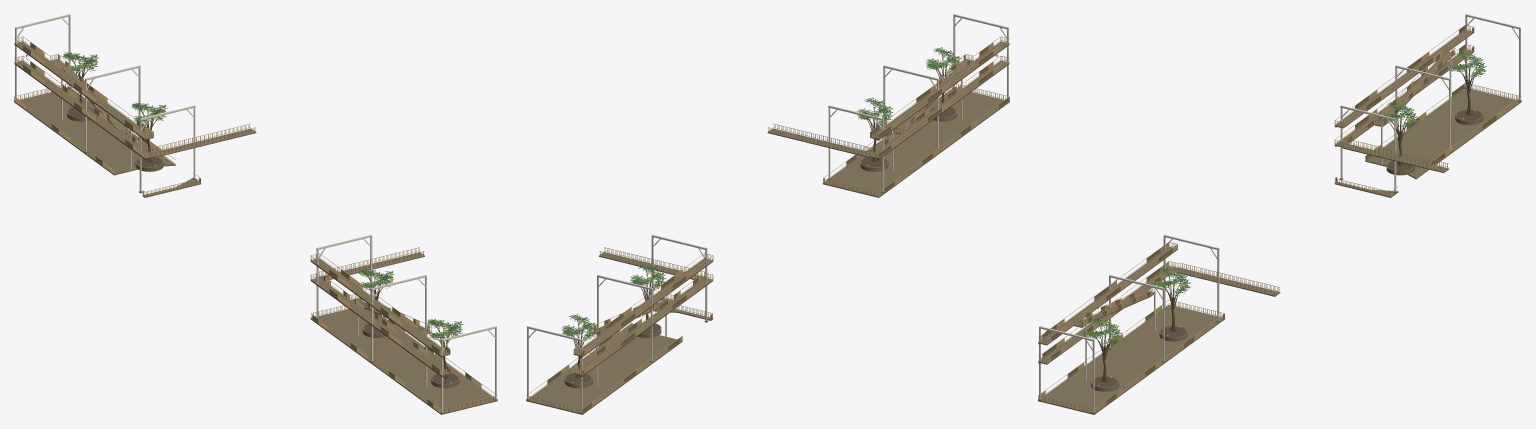
File: NightGardenReceivingCourts_r003.glb
The picture shows the model from 3 angles, left to right: view 1: azimuth 30°, elevation 25°; view 2: azimuth 150°, elevation 25°; view 3: azimuth 330°, elevation 25°; orthographic projection.
Visible parts, largest first — view 1: Base_006, Fore_GuardBalusters, Aft_GuardBalusters, Base_007, Base_004, Base_005, Aft_Gallery_97.5, Aft_Gallery_93, Fore_Gallery_93, Fore_Gallery_97.5, Fore_D15_ReceivingBridge, Aft_D15_ReceivingBridge; view 2: Base_006, Aft_GuardBalusters, Fore_GuardBalusters, Base_004, Base_007, Base_005, Fore_Gallery_97.5, Fore_Gallery_93, Aft_Gallery_93, Aft_Gallery_97.5, Aft_D15_ReceivingBridge, Base_003 (+1 smaller); view 3: Base_007, Base_006, Aft_GuardBalusters, Fore_GuardBalusters, Base_004, Base_005, Fore_Gallery_97.5, Aft_Gallery_97.5, Base_003, Aft_Gallery_93, Fore_Gallery_93, Fore_D15_ReceivingBridge (+2 smaller).
Part boxes in pixels (x1,y1,x2,y2): Base_006: (310,308,441,414); Fore_GuardBalusters: (14,37,255,196); Aft_GuardBalusters: (310,248,494,412); Base_007: (373,313,497,414); Base_004: (20,88,138,160); Base_005: (14,101,137,175); Aft_Gallery_97.5: (310,258,450,356); Aft_Gallery_93: (310,277,450,376); Fore_Gallery_93: (14,60,153,159); Fore_Gallery_97.5: (14,41,153,139); Fore_D15_ReceivingBridge: (150,129,256,157); Aft_D15_ReceivingBridge: (318,252,424,279); Base_006: (822,101,1009,197); Aft_GuardBalusters: (768,37,1009,196); Fore_GuardBalusters: (529,248,713,412); Base_004: (526,337,644,414); Base_007: (825,88,1003,181); Base_005: (582,335,682,414); Fore_Gallery_97.5: (573,258,713,356); Fore_Gallery_93: (573,277,713,376); Aft_Gallery_93: (870,60,1009,159); Aft_Gallery_97.5: (870,41,1009,139); Aft_D15_ReceivingBridge: (767,129,873,157); Base_003: (529,323,640,398); Base_007: (1038,318,1225,414); Base_006: (1041,304,1222,398); Aft_GuardBalusters: (1038,243,1279,412); Fore_GuardBalusters: (1334,25,1518,196); Base_004: (1407,88,1519,159); Base_005: (1365,88,1464,166); Fore_Gallery_97.5: (1334,30,1474,128); Aft_Gallery_97.5: (1038,246,1177,345); Base_003: (1408,101,1521,179); Aft_Gallery_93: (1038,266,1177,364); Fore_Gallery_93: (1334,49,1474,147); Fore_D15_ReceivingBridge: (1342,144,1448,172).
Size of the model in its own units: 26.95 by 17.44 by 181.
Materials: 22 (18 with a texture image).
